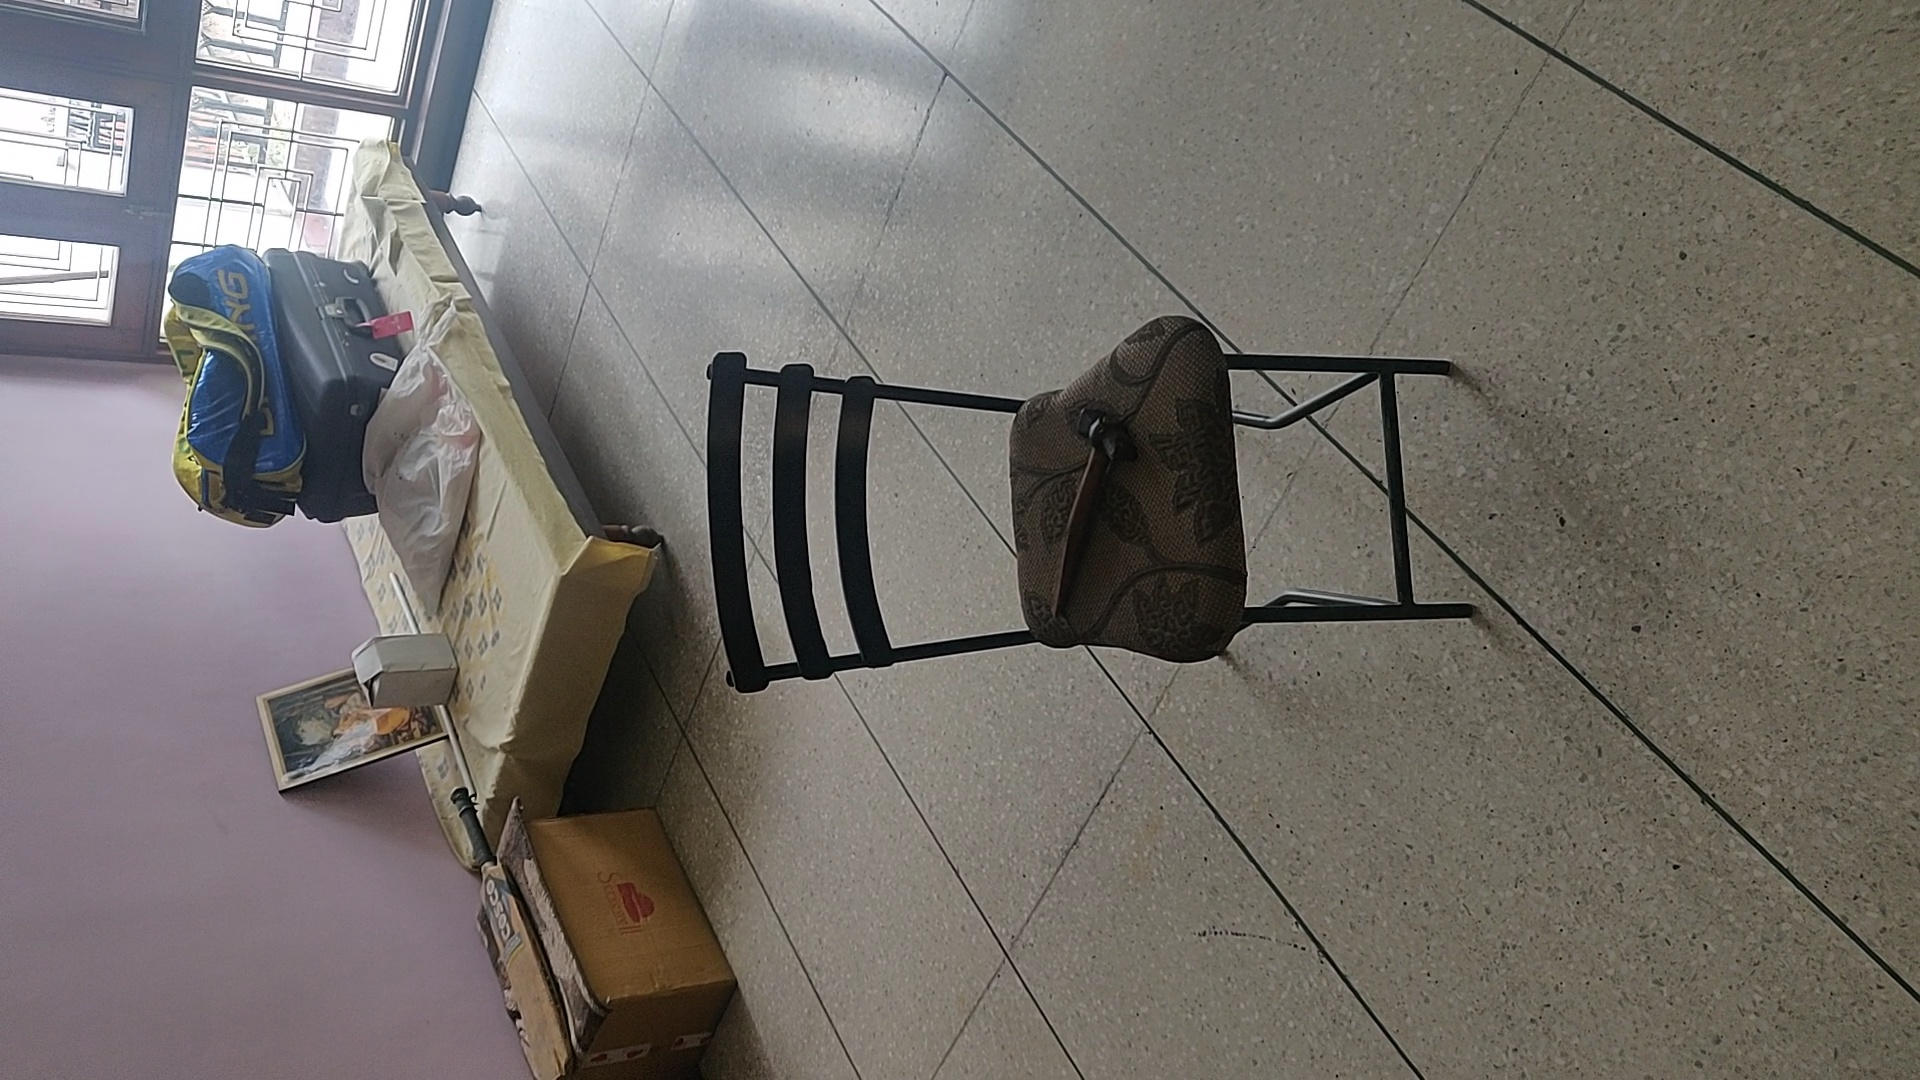hammer: (1050, 405, 1138, 621)
